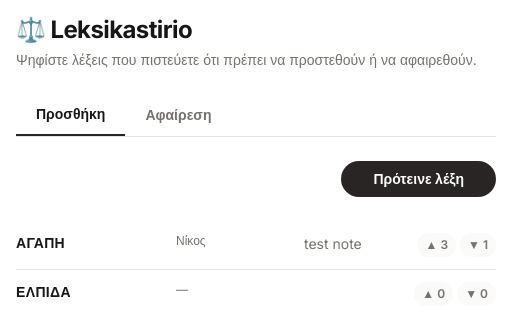
Test: Leksikastirio page — optimistic voting › decrements upvote count on undo (same button clicked twice)
Expected: the text "αγαπη" is shown, [16,234,65,251]
Click the button with test id "vote-up-button": [437, 245] box [418,233,456,257]
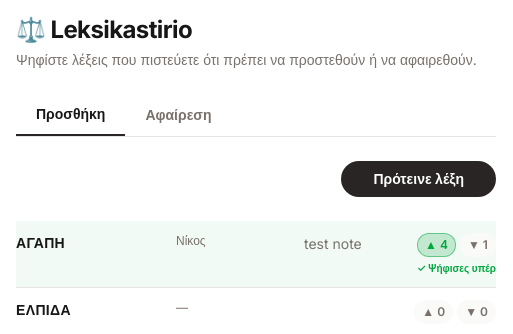
Result: the button with test id "vote-up-button" shows "4"
Click the button with test id "vote-up-button": [436, 245] box [417,233,456,257]
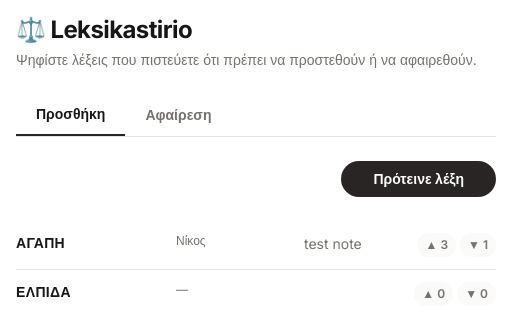
Result: the button with test id "vote-up-button" shows "3" at [418,233,456,257]
